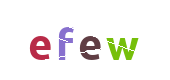E: (24, 0, 104, 80), (45, 0, 125, 80)
F: (25, 0, 105, 80)
W: (82, 0, 162, 80)
